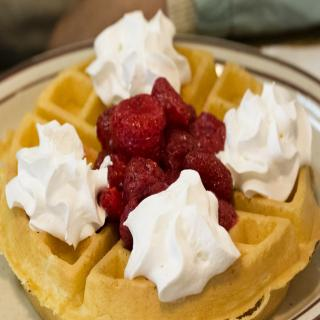Waffle: (0, 44, 320, 320)
